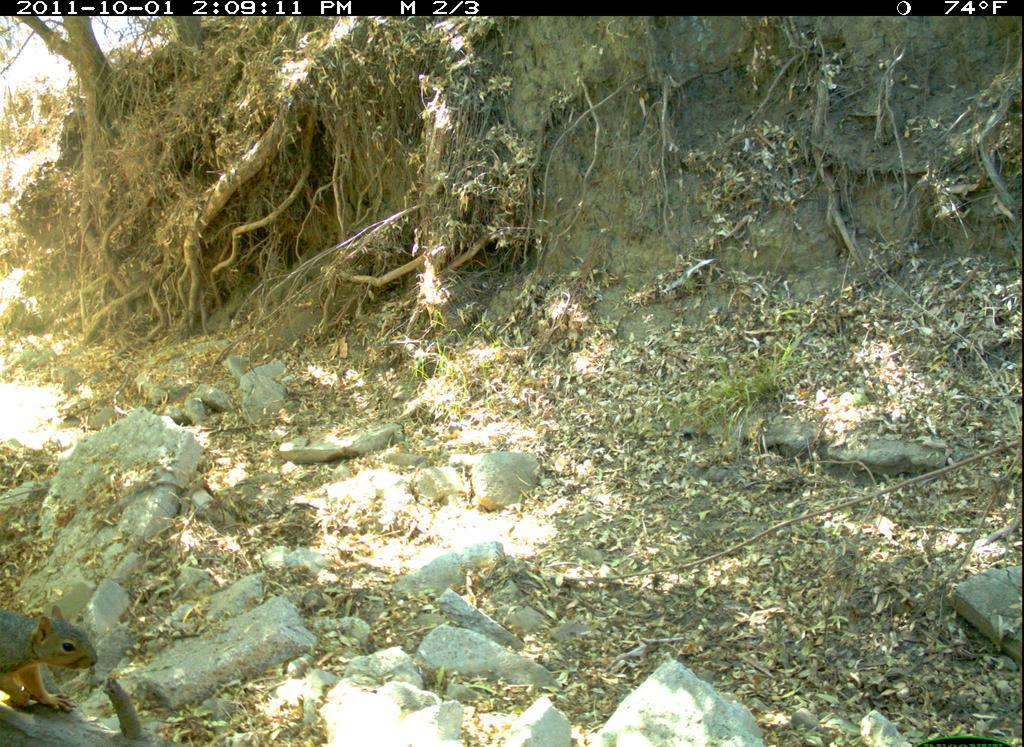squirrel: (1, 598, 103, 721)
